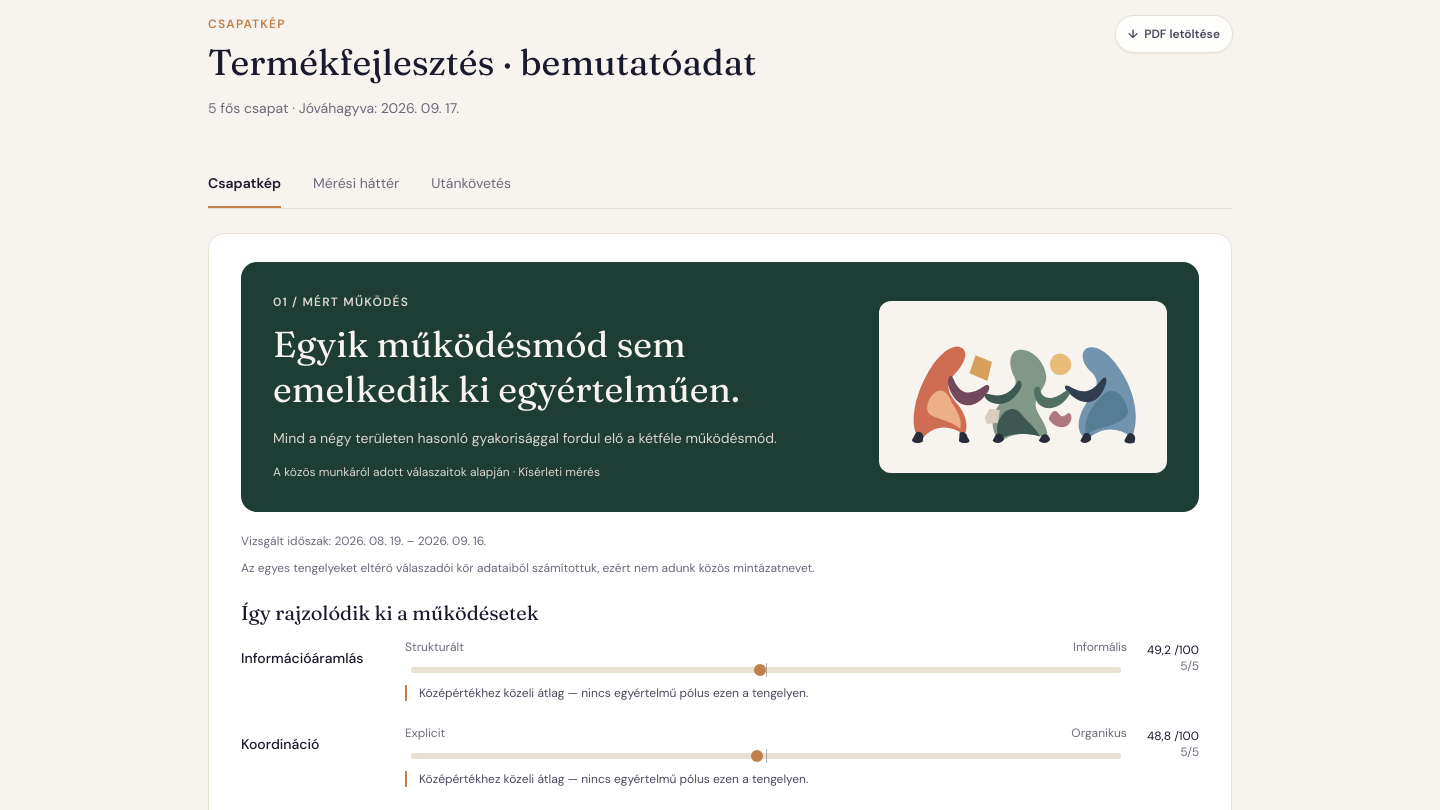
Scenario: client report reading flow › keeps the measured layers in order and moves exact SD to the measurement tab
The image size is (1440, 810).
Expected: the picture named "Vegyes csapatkép – különböző absztrakt karakterek" is shown, [891,313,1155,461]
Expected: the text "Szórás" is not shown
Click the tab "Mérési háttér".
click(356, 184)  # box [313,160,399,208]
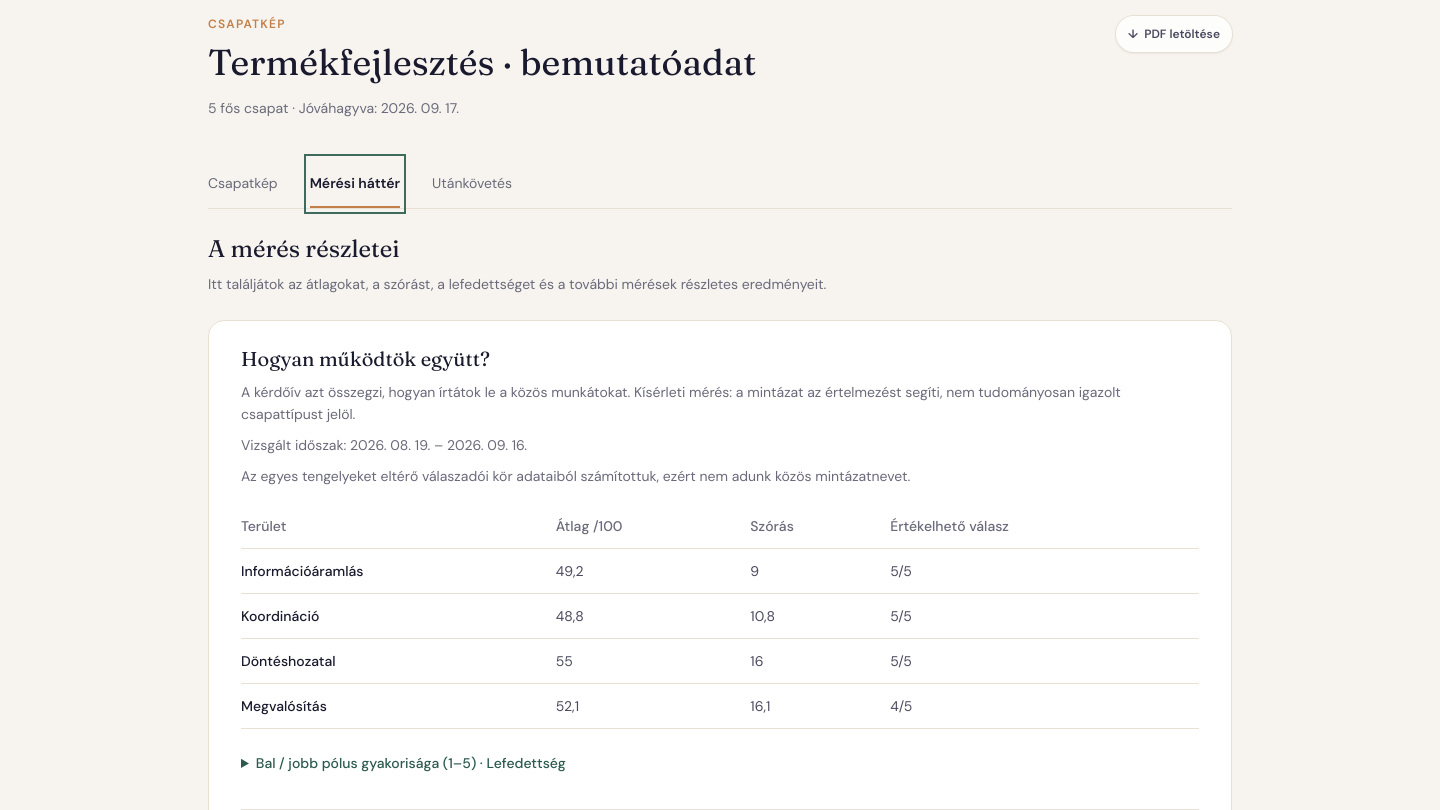
Expected: the text "nem tudományosan igazolt csapattípust jelöl" is shown, [241,382,1121,423]
Expected: the row "Megvalósítás 52,1 16,1 4/5" is shown, [241,683,1199,728]
